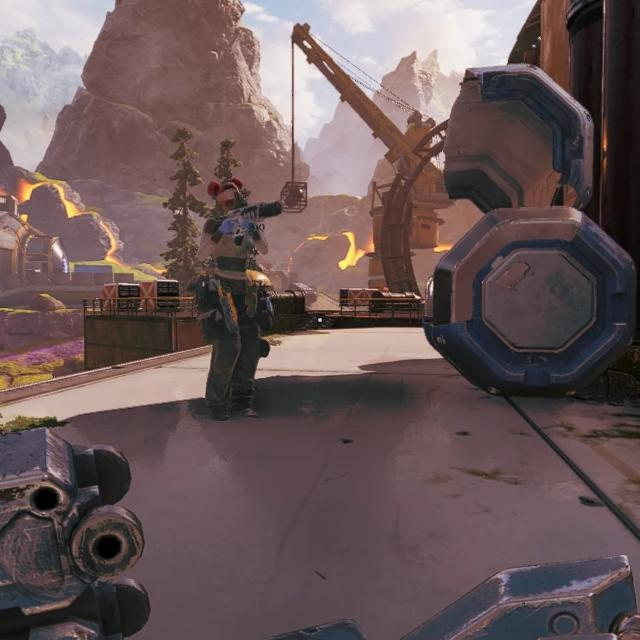avatar: (189, 178, 276, 425)
